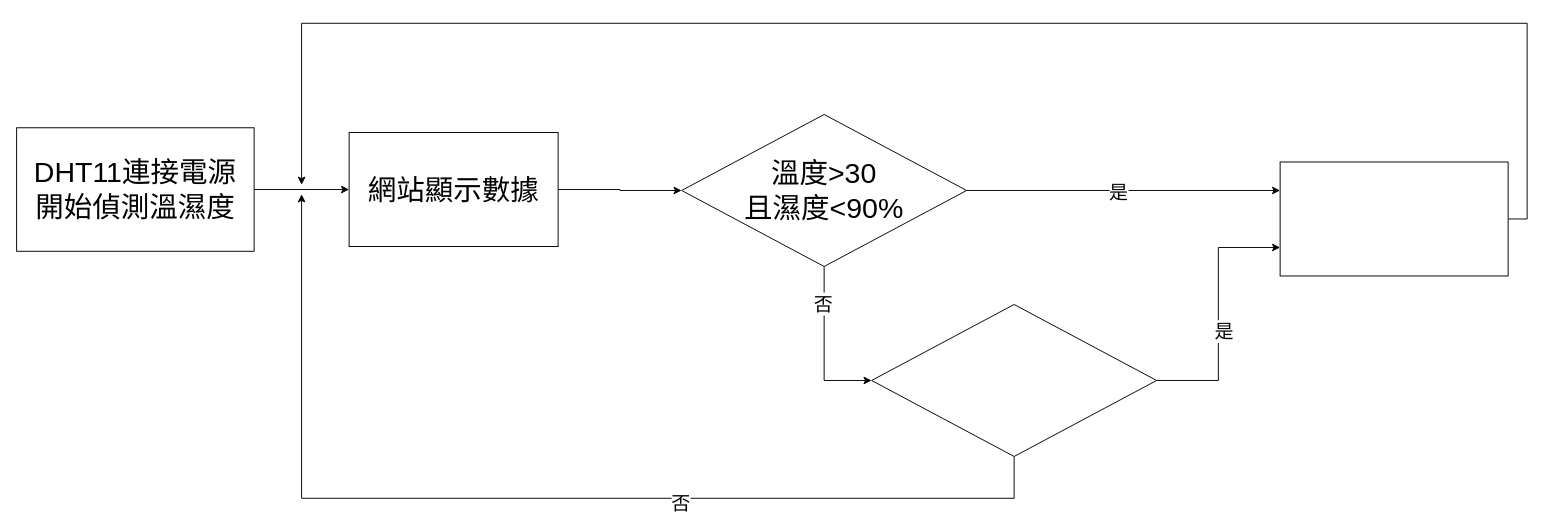
Image size: 1551x530. Some labels were removed from this diagram. Here are the shapes that lost their labels. From the top down, the centre of each, then its label:
the point at 1393,218: 開啟霧化裝置
the point at 1014,380: 紅外線感測
